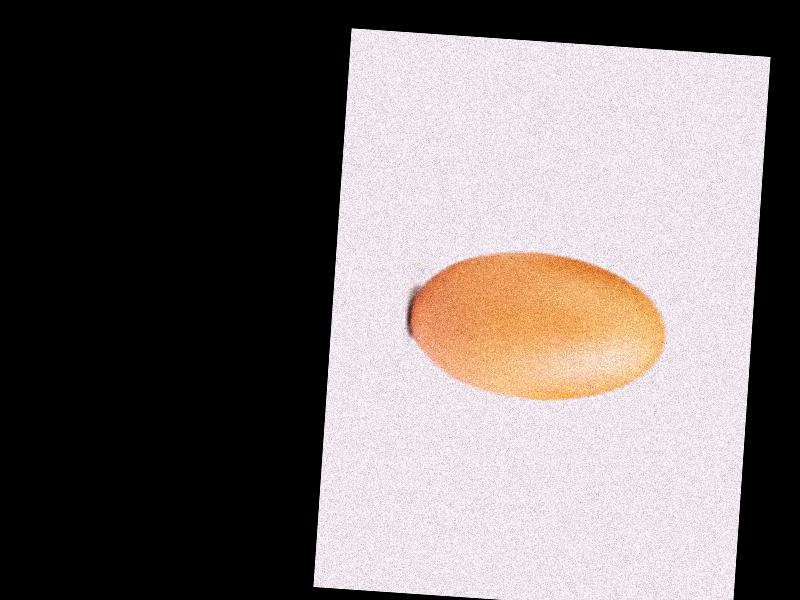Eggs: (403, 245, 674, 406)
